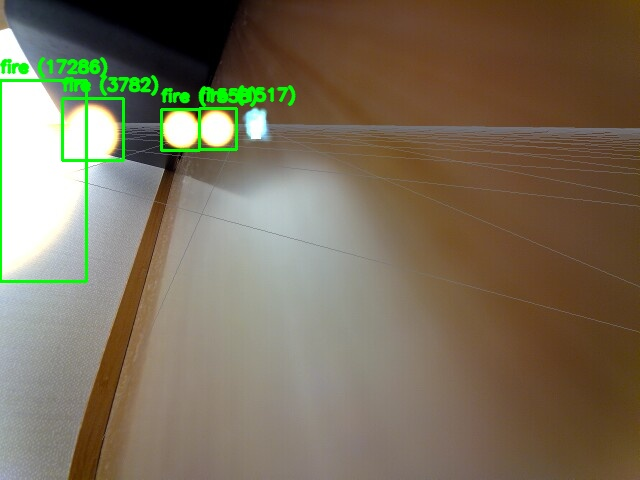fire: (0, 80, 86, 281), (62, 98, 123, 160), (161, 109, 199, 150), (199, 108, 236, 149)
